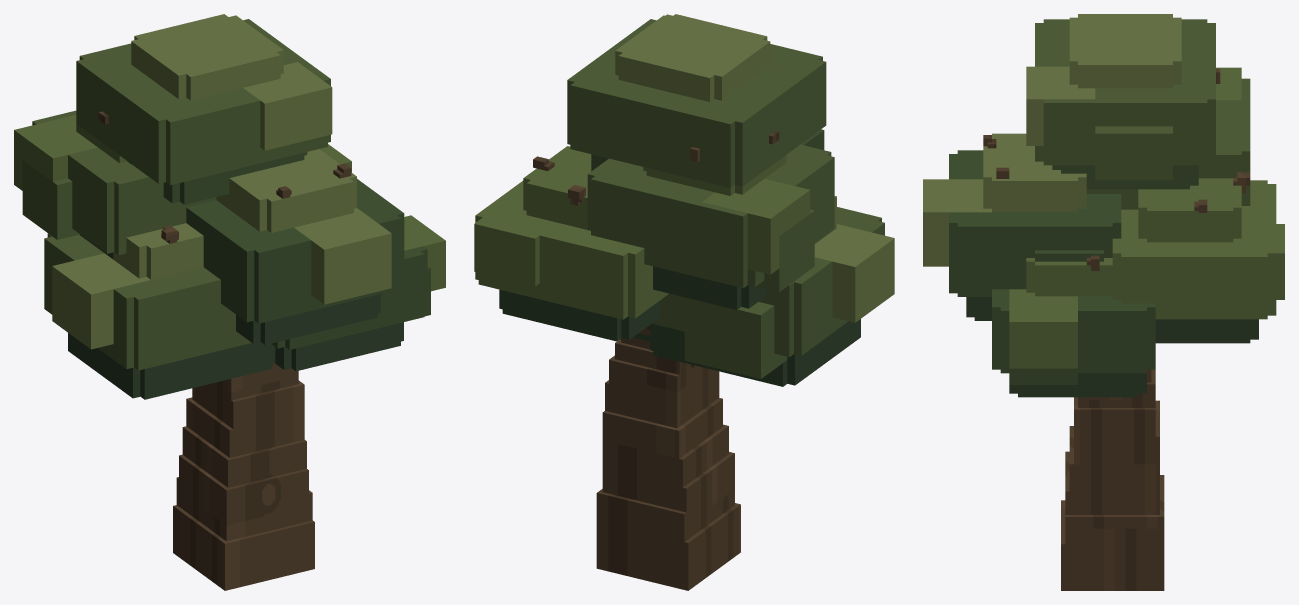
The model's file is oak_mature_2.glb.
The picture shows the model from 3 angles, left to right: view 1: azimuth 30°, elevation 25°; view 2: azimuth 150°, elevation 25°; view 3: azimuth 270°, elevation 25°; orthographic projection. The views are drawn at different scales.
Parts seen in each view (by area): view 1: VoxelVisual; view 2: VoxelVisual; view 3: VoxelVisual.
Part boxes in pixels (x1,y1,x2,y2): VoxelVisual: (14,14,445,590); VoxelVisual: (474,14,894,590); VoxelVisual: (923,14,1284,590).
Size of what is drawn, in the model's own units: 11.25 by 16.5 by 10.5.
